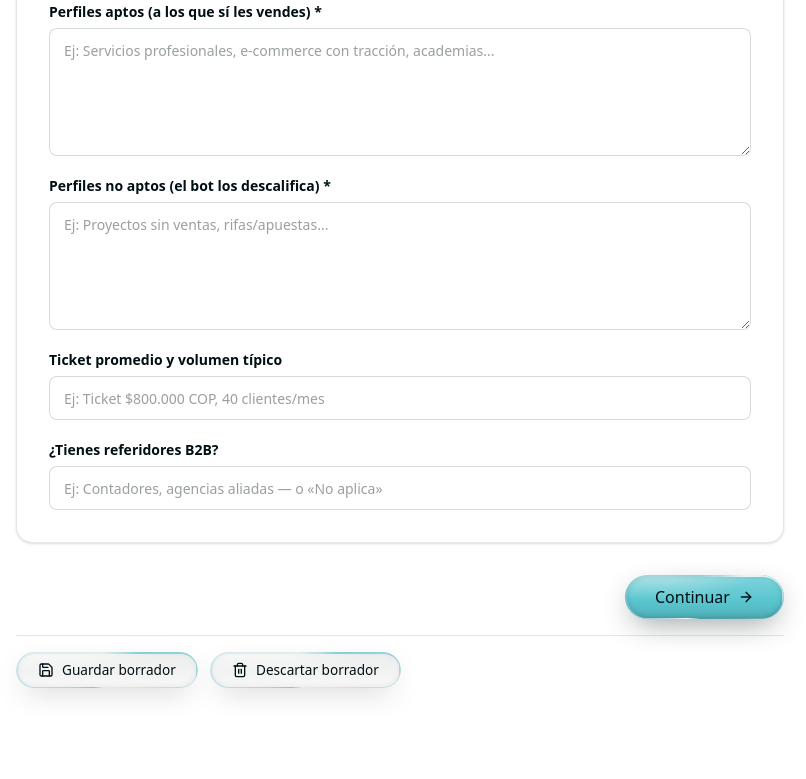
OnboardingWizard › blocks continue and shows required errors on an empty brand step
This screenshot has width=806, height=779.
(page scrolled)
Click the button "Continuar". click: x=704, y=597
box: [625,575,784,619]
(page scrolled)
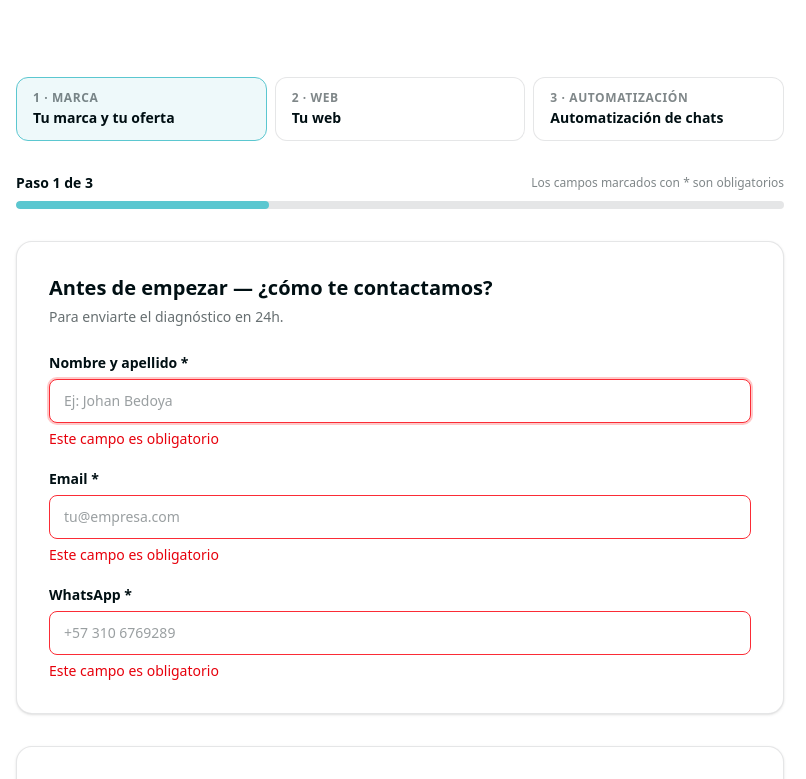
Expected: the text "Este campo es obligatorio" below "Nombre y apellido *" is shown, [49,429,219,448]
